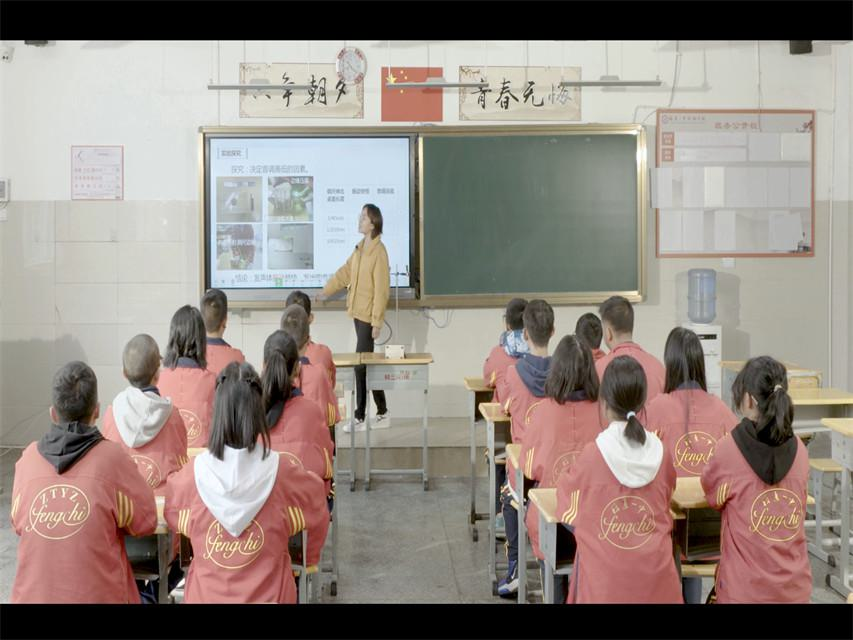listen: (21, 354, 122, 573), (579, 354, 664, 533), (715, 357, 806, 524), (661, 321, 722, 476), (156, 297, 213, 407), (253, 324, 312, 430), (514, 294, 556, 376), (590, 294, 647, 354)
